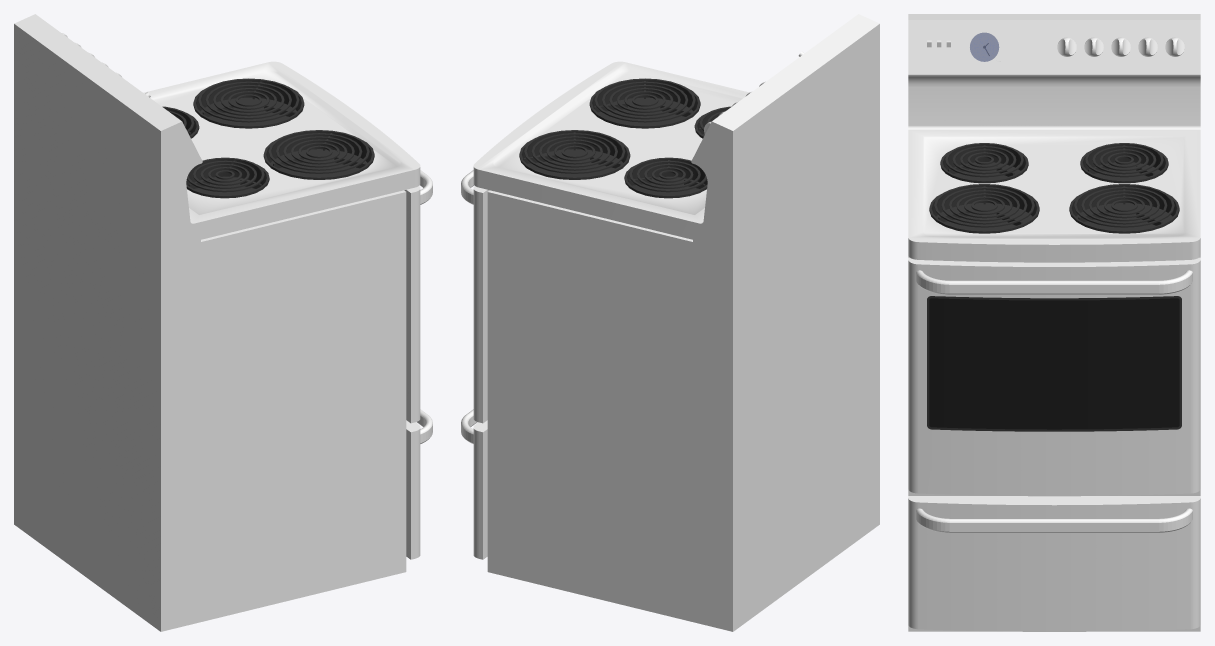
The model's file is cooker.dae.
The picture shows the model from 3 angles, left to right: view 1: azimuth 30°, elevation 25°; view 2: azimuth 150°, elevation 25°; view 3: azimuth 270°, elevation 25°; orthographic projection.
Parts seen in each view (by area): view 1: SketchUp (×9), group_1, group_0; view 2: SketchUp (×9), group_0, group_1; view 3: SketchUp (×16), group_2, group_6, group_0 (×3), group_1 (×3), group_3, group_5.
Part boxes in pixels (x1=…): SketchUp (×9): x1=14, y1=14, x2=420, y2=631; group_1: x1=268, y1=130, x2=369, y2=173; group_0: x1=198, y1=78, x2=299, y2=122; SketchUp (×9): x1=473, y1=14, x2=879, y2=631; group_0: x1=524, y1=130, x2=625, y2=173; group_1: x1=594, y1=78, x2=695, y2=122; SketchUp (×16): x1=908, y1=14, x2=1200, y2=631; group_2: x1=916, y1=270, x2=1192, y2=294; group_6: x1=916, y1=508, x2=1192, y2=532; group_0 (×3): x1=1074, y1=184, x2=1174, y2=227; group_1 (×3): x1=934, y1=184, x2=1034, y2=227; group_3: x1=945, y1=143, x2=1023, y2=177; group_5: x1=1085, y1=143, x2=1163, y2=177.
Bounding box in the file's own units: 26.62 × 23.43 × 44.49.
Materials: 7 (7 with a texture image).
